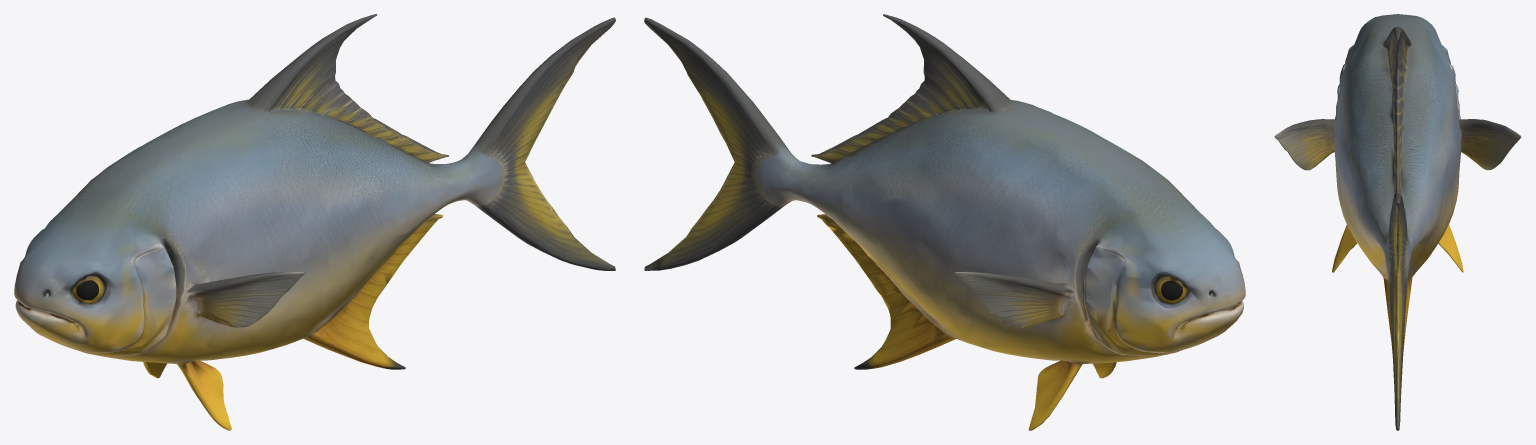
Rendered from fish-pompano.glb.
3 views of the same model, side by side, from view 1: azimuth 30°, elevation 25°; view 2: azimuth 150°, elevation 25°; view 3: azimuth 270°, elevation 25° (orthographic). The views are drawn at different scales.
Parts seen in each view (by area): view 1: tripo_node_06b66865-9d88-4975-917b-6210d3661592; view 2: tripo_node_06b66865-9d88-4975-917b-6210d3661592; view 3: tripo_node_06b66865-9d88-4975-917b-6210d3661592.
Boxes of the visible parts, x1=… form: tripo_node_06b66865-9d88-4975-917b-6210d3661592: x1=14, y1=14, x2=615, y2=430; tripo_node_06b66865-9d88-4975-917b-6210d3661592: x1=644, y1=14, x2=1245, y2=430; tripo_node_06b66865-9d88-4975-917b-6210d3661592: x1=1274, y1=14, x2=1521, y2=430.
Size of the model in its own units: 1 by 0.5811 by 0.3951.
1 material, 1 textured.
